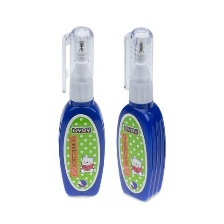correction_fluid: (114, 26, 166, 202), (57, 25, 105, 197)
